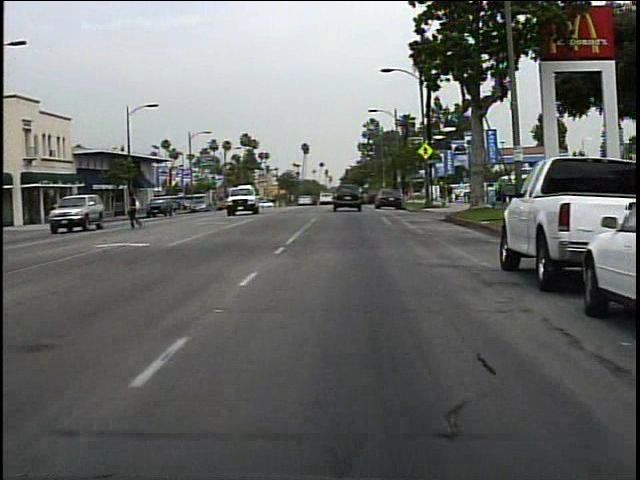person: (124, 187, 149, 233), (482, 177, 503, 211)
